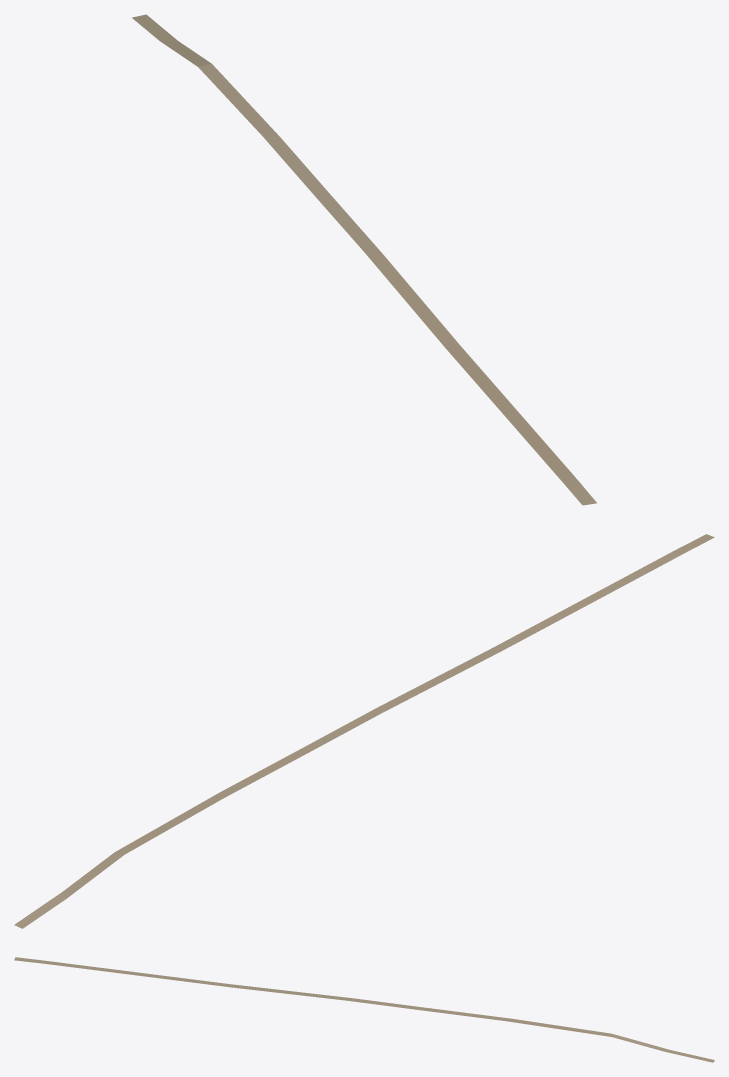
Rendered from farm_1_18_track.glb.
The picture shows the model from 3 angles, top to bottom: view 1: azimuth 30°, elevation 25°; view 2: azimuth 150°, elevation 25°; view 3: azimuth 270°, elevation 25°; orthographic projection. The views are drawn at different scales.
Parts seen in each view (by area): view 1: geometry_0; view 2: geometry_0; view 3: geometry_0.
Boxes of the visible parts, x1,y1,x2,y2 form: geometry_0: (132, 14, 596, 505); geometry_0: (14, 534, 714, 928); geometry_0: (14, 957, 714, 1062).
Size of the model in its own units: 63.24 by 19.59 by 293.
